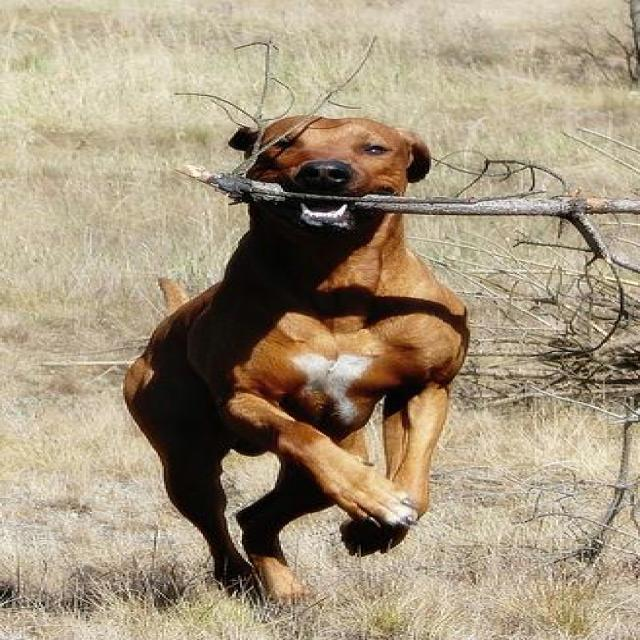rhodesian_ridgeback: (121, 115, 472, 609)
